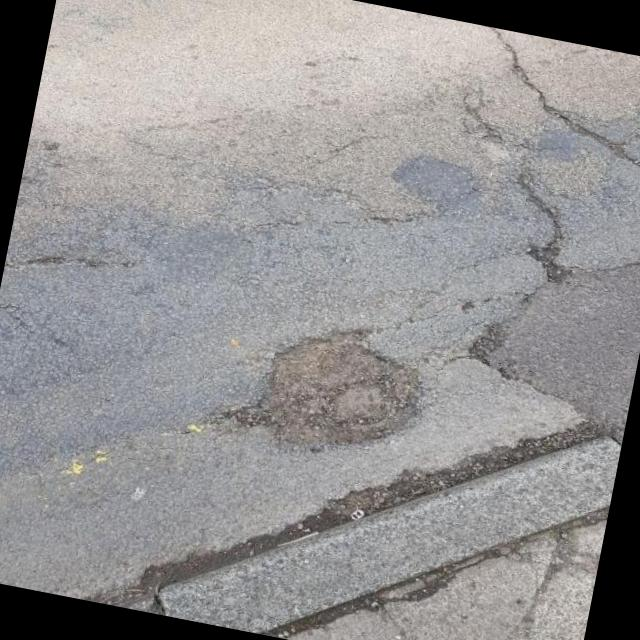pothole: (206, 294, 444, 471)
